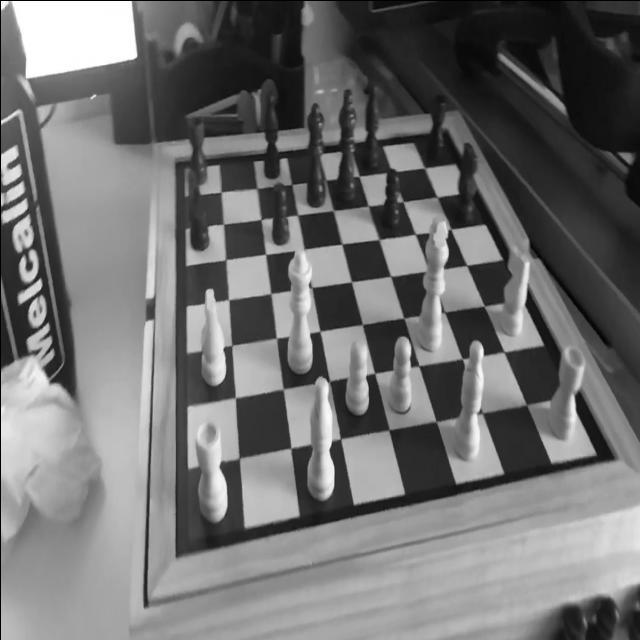chess-table-corners: (598, 443, 626, 473), (167, 538, 190, 570), (168, 146, 180, 170), (438, 118, 452, 138)
